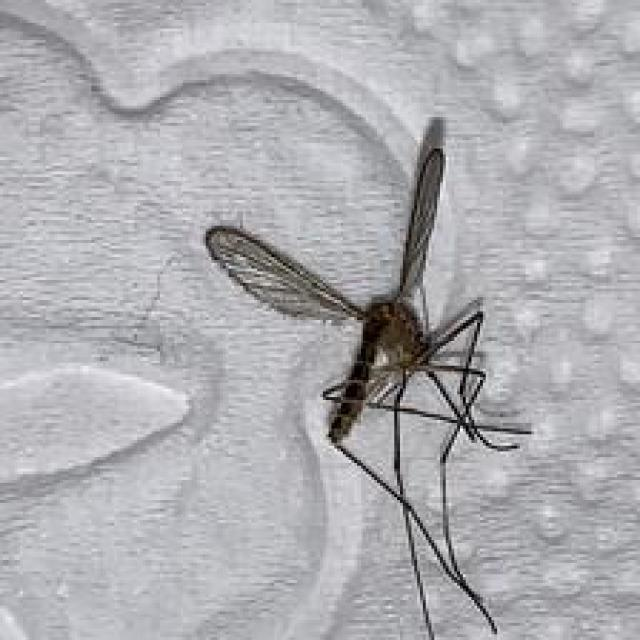Culex: (203, 114, 534, 640)
